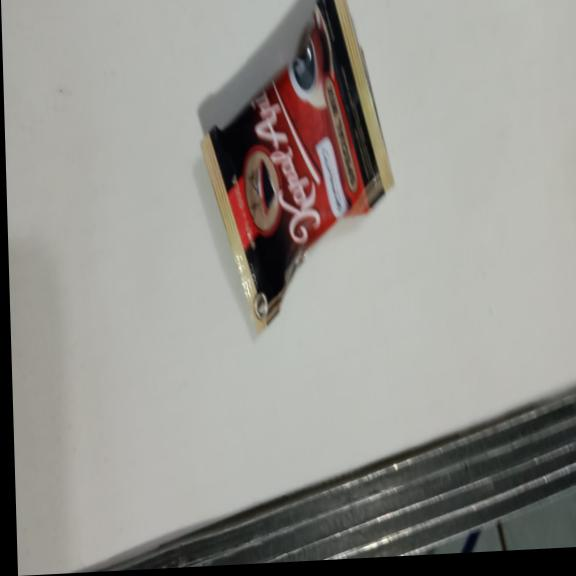Plastik: (196, 0, 398, 344)
